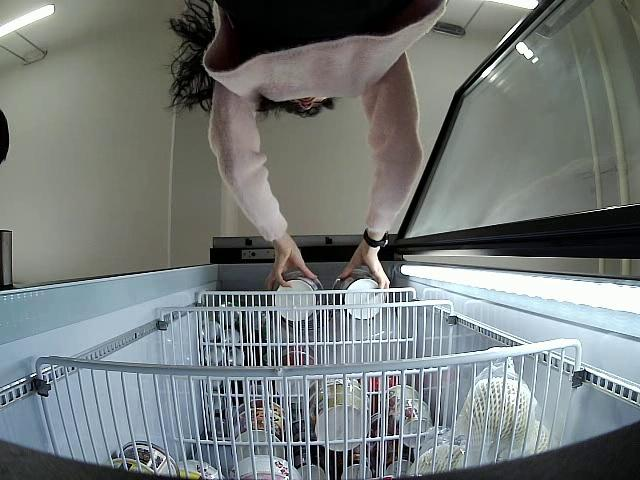00_hand: (341, 241, 392, 290), (264, 244, 316, 289)
07_buldak_L: (272, 269, 326, 323), (331, 271, 384, 322)
